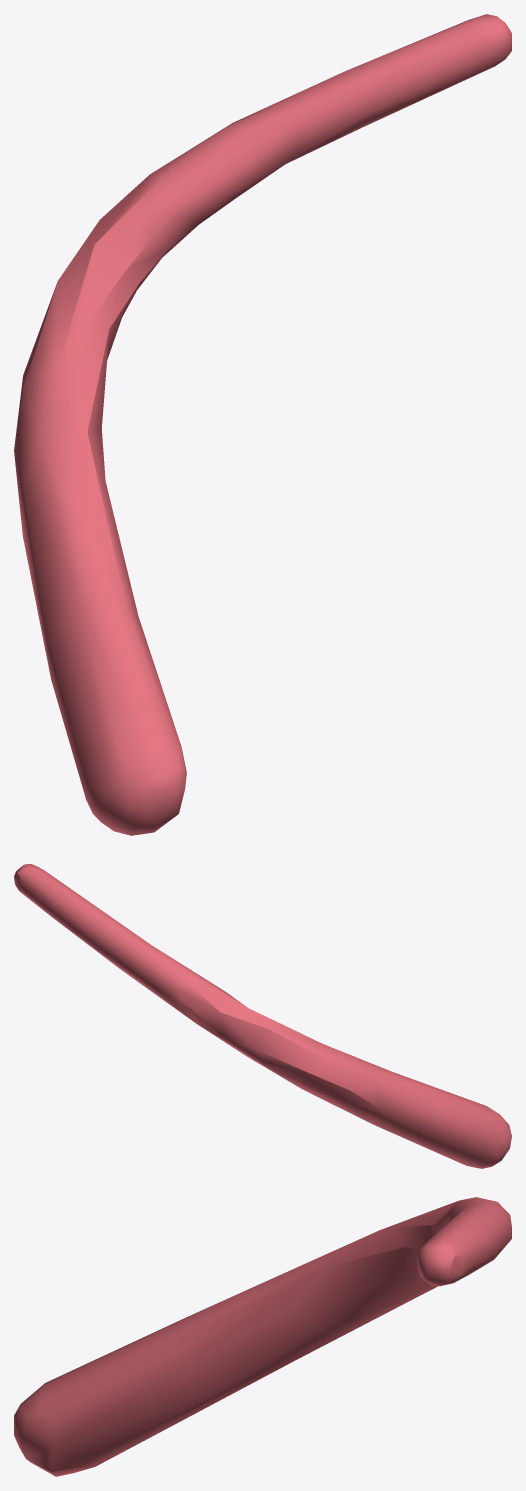
File: fma82706_fj1914.glb
3 views of the same model, one above another, from view 1: azimuth 30°, elevation 25°; view 2: azimuth 150°, elevation 25°; view 3: azimuth 270°, elevation 25° (orthographic). The views are drawn at different scales.
Visible parts, largest first — view 1: FMA82706_FJ1914; view 2: FMA82706_FJ1914; view 3: FMA82706_FJ1914.
Part boxes in pixels (box(x1,y1,x2,y2)): FMA82706_FJ1914: box(14, 14, 511, 835); FMA82706_FJ1914: box(14, 864, 511, 1168); FMA82706_FJ1914: box(14, 1197, 511, 1476).
Size of the model in its own units: 0.0131 by 0.0105 by 0.00991.
